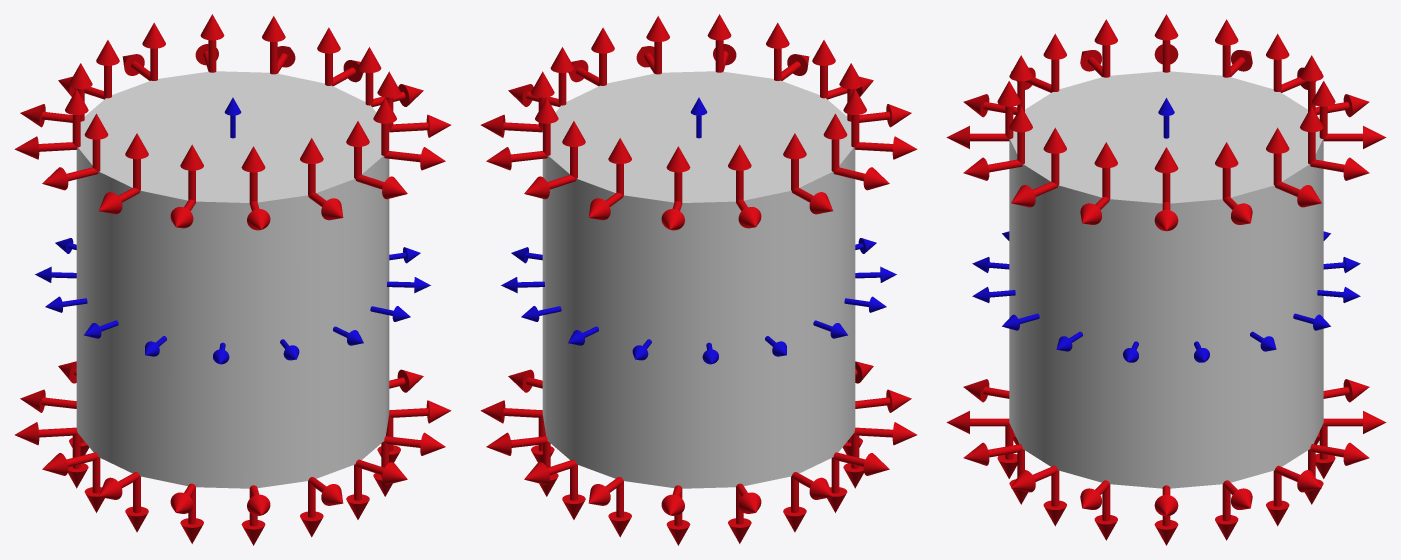
3 renders of one model, left to right at view 1: azimuth 30°, elevation 25°; view 2: azimuth 150°, elevation 25°; view 3: azimuth 270°, elevation 25°, orthographic.
Visible parts, largest first — view 1: Cube.004; view 2: Cube.004; view 3: Cube.004.
Part boxes in pixels (<box>): Cube.004: <box>14,14,451,545</box>; Cube.004: <box>480,14,917,545</box>; Cube.004: <box>946,14,1386,545</box>.
Size of the model in its own units: 2.8 by 2.8 by 2.8.
